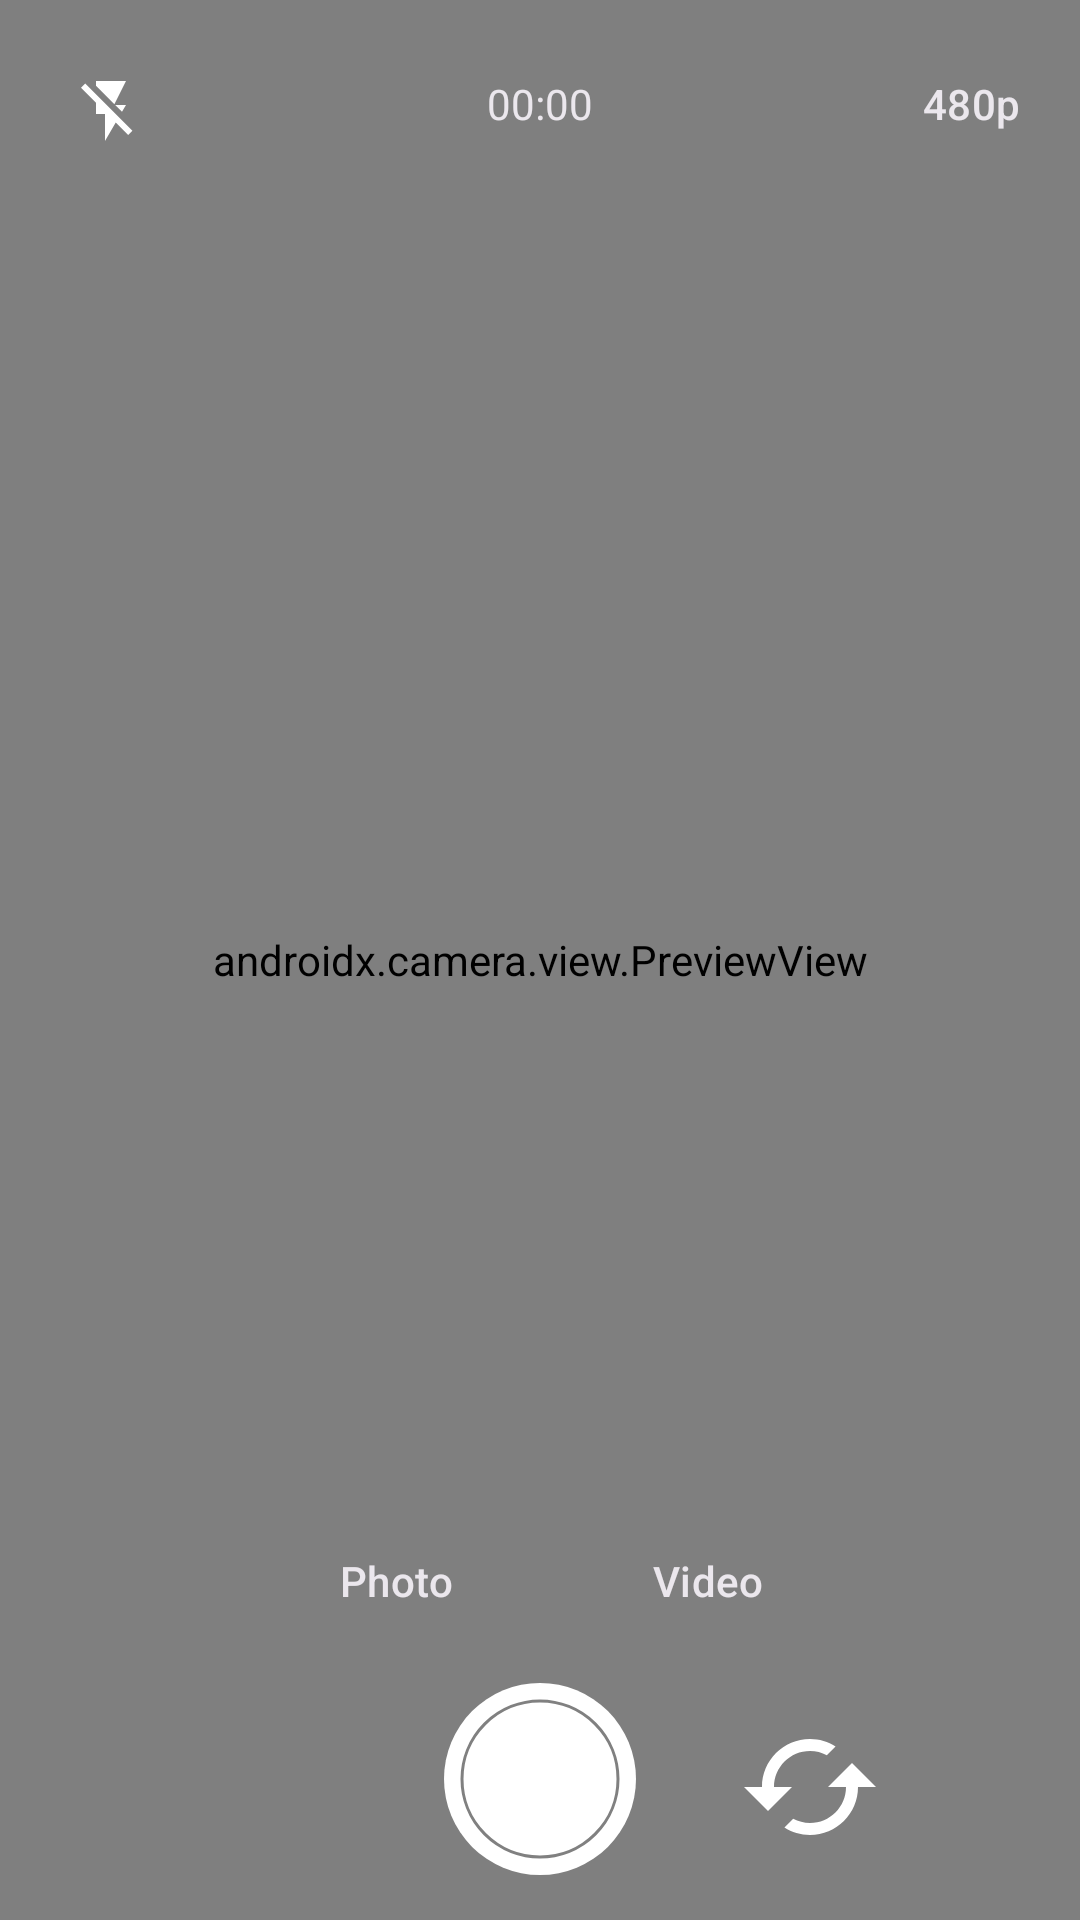

Icon bounding boxes for this 1080 x 1920 phone screenshot, format BBox(x1, y1, x2, y2):
Flash: BBox(81, 81, 132, 141)
Start Capture: BBox(444, 1683, 636, 1875)
Switch Camera: BBox(744, 1739, 876, 1835)
